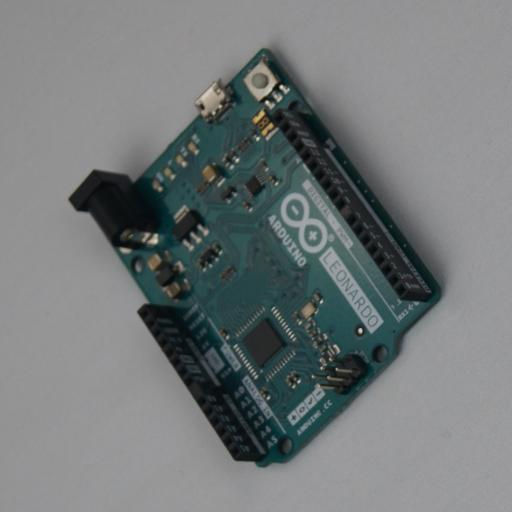Arduino Leonardo: (68, 48, 446, 467)
